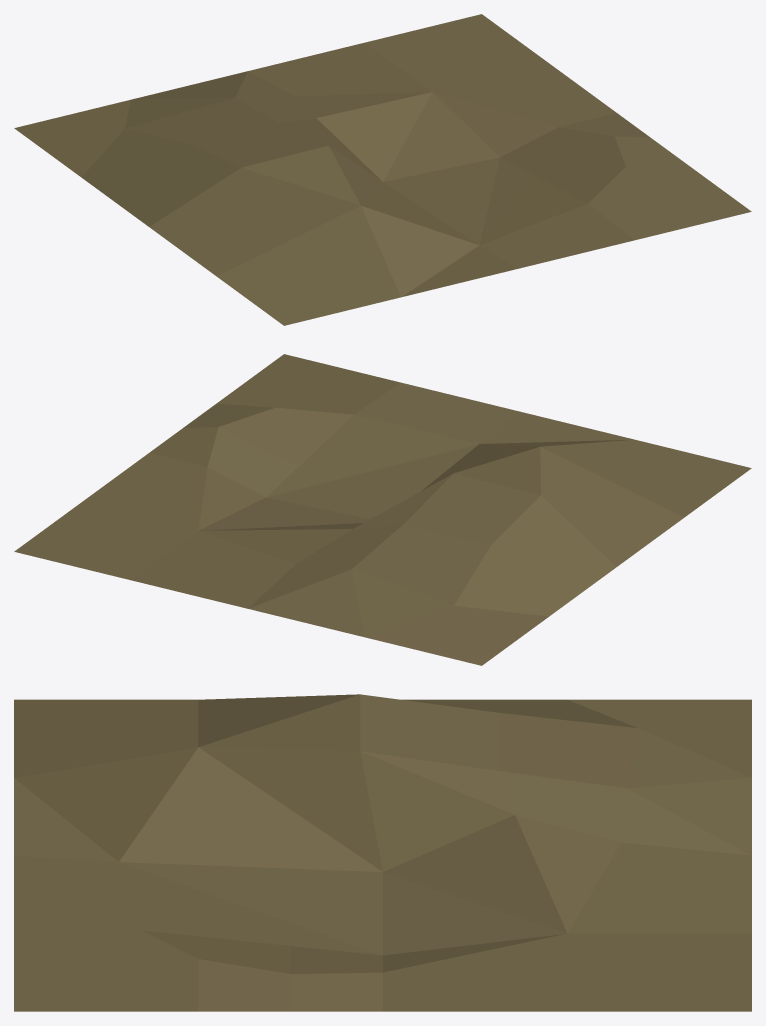
The model's file is Floor02.fbx.
3 renders of one model, top to bottom at view 1: azimuth 30°, elevation 25°; view 2: azimuth 150°, elevation 25°; view 3: azimuth 270°, elevation 25°, orthographic. The views are drawn at different scales.
Visible parts, largest first — view 1: Floor02; view 2: Floor02; view 3: Floor02.
Boxes of the visible parts, x1=… form: Floor02: x1=14, y1=14, x2=751, y2=325; Floor02: x1=14, y1=354, x2=751, y2=665; Floor02: x1=14, y1=694, x2=751, y2=1011.
Bounding box in the file's own units: 2032 × 257 × 2032.
